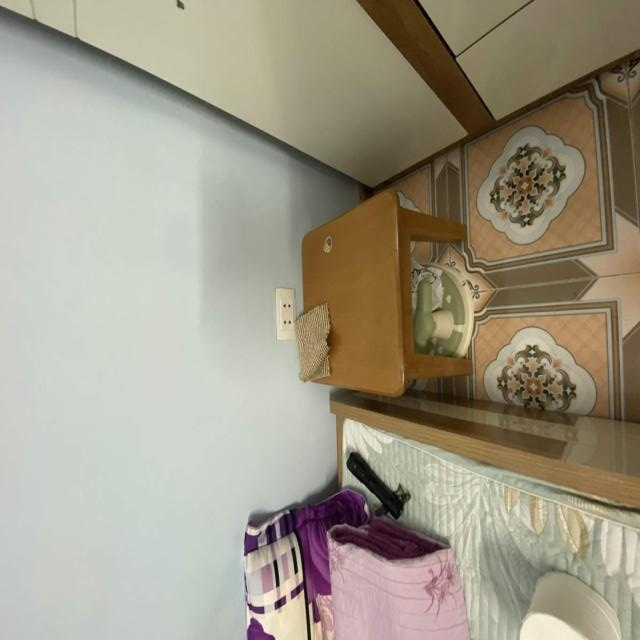outlet: (275, 288, 296, 341)
